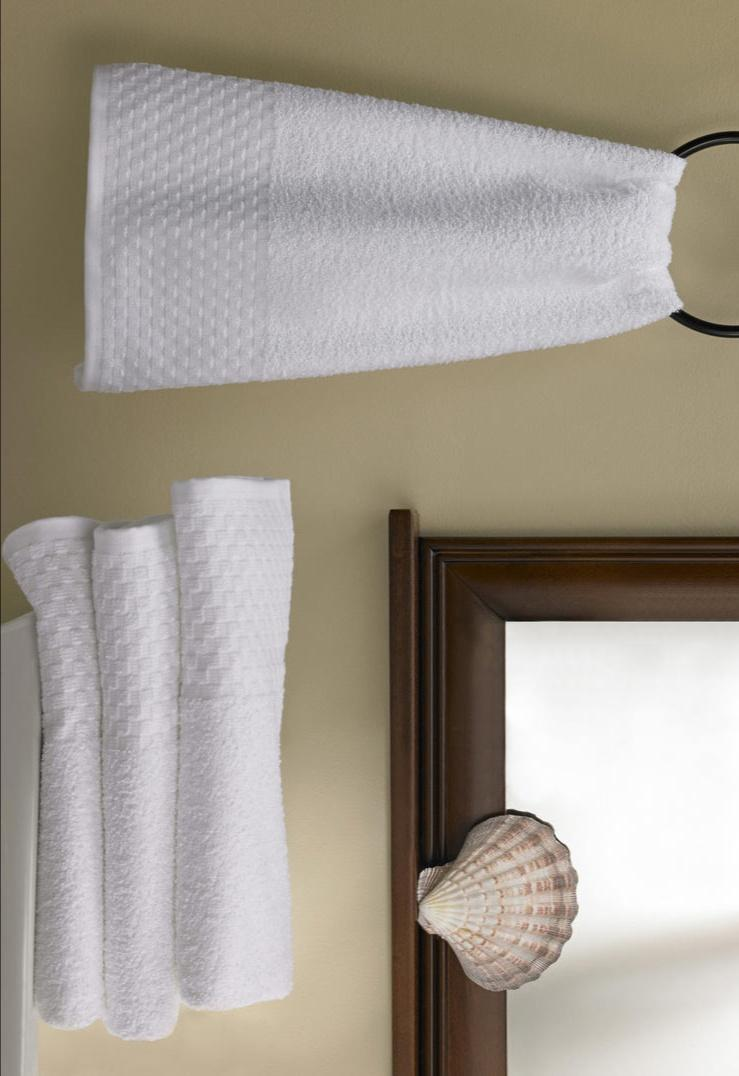towel: (180, 468, 315, 1020)
